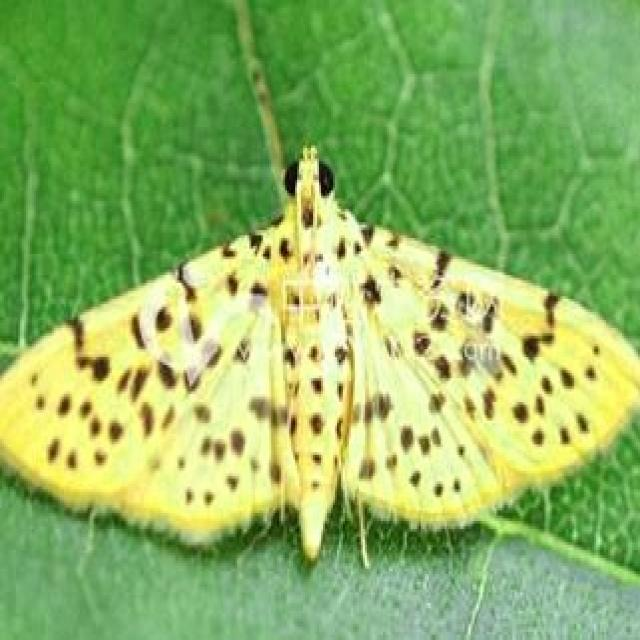peach borer: (3, 143, 640, 569)
